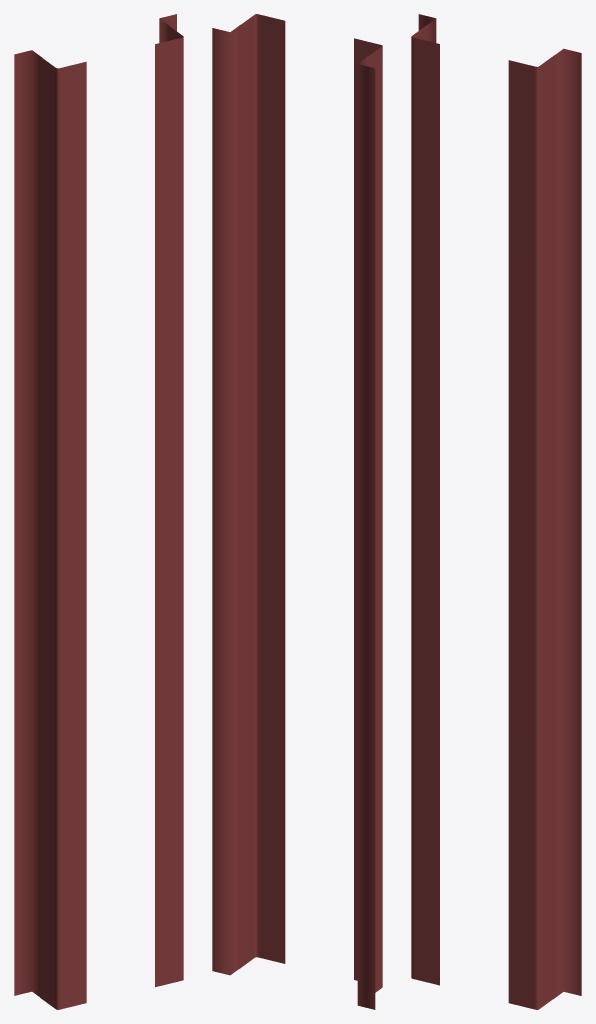
File: Decal_wallIn_B_columnhalf_small.FBX
3 views of the same model, side by side, from view 1: azimuth 30°, elevation 25°; view 2: azimuth 150°, elevation 25°; view 3: azimuth 330°, elevation 25° (orthographic).
Visible parts, largest first — view 1: Decal_wallIn_B_columnhalf_small; view 2: Decal_wallIn_B_columnhalf_small; view 3: Decal_wallIn_B_columnhalf_small.
Part boxes in pixels (x1,y1,x2,y2): Decal_wallIn_B_columnhalf_small: [14, 14, 183, 1009]; Decal_wallIn_B_columnhalf_small: [212, 14, 382, 1009]; Decal_wallIn_B_columnhalf_small: [411, 14, 581, 1009].
Size of the model in its own units: 45.71 by 253 by 12.37.
